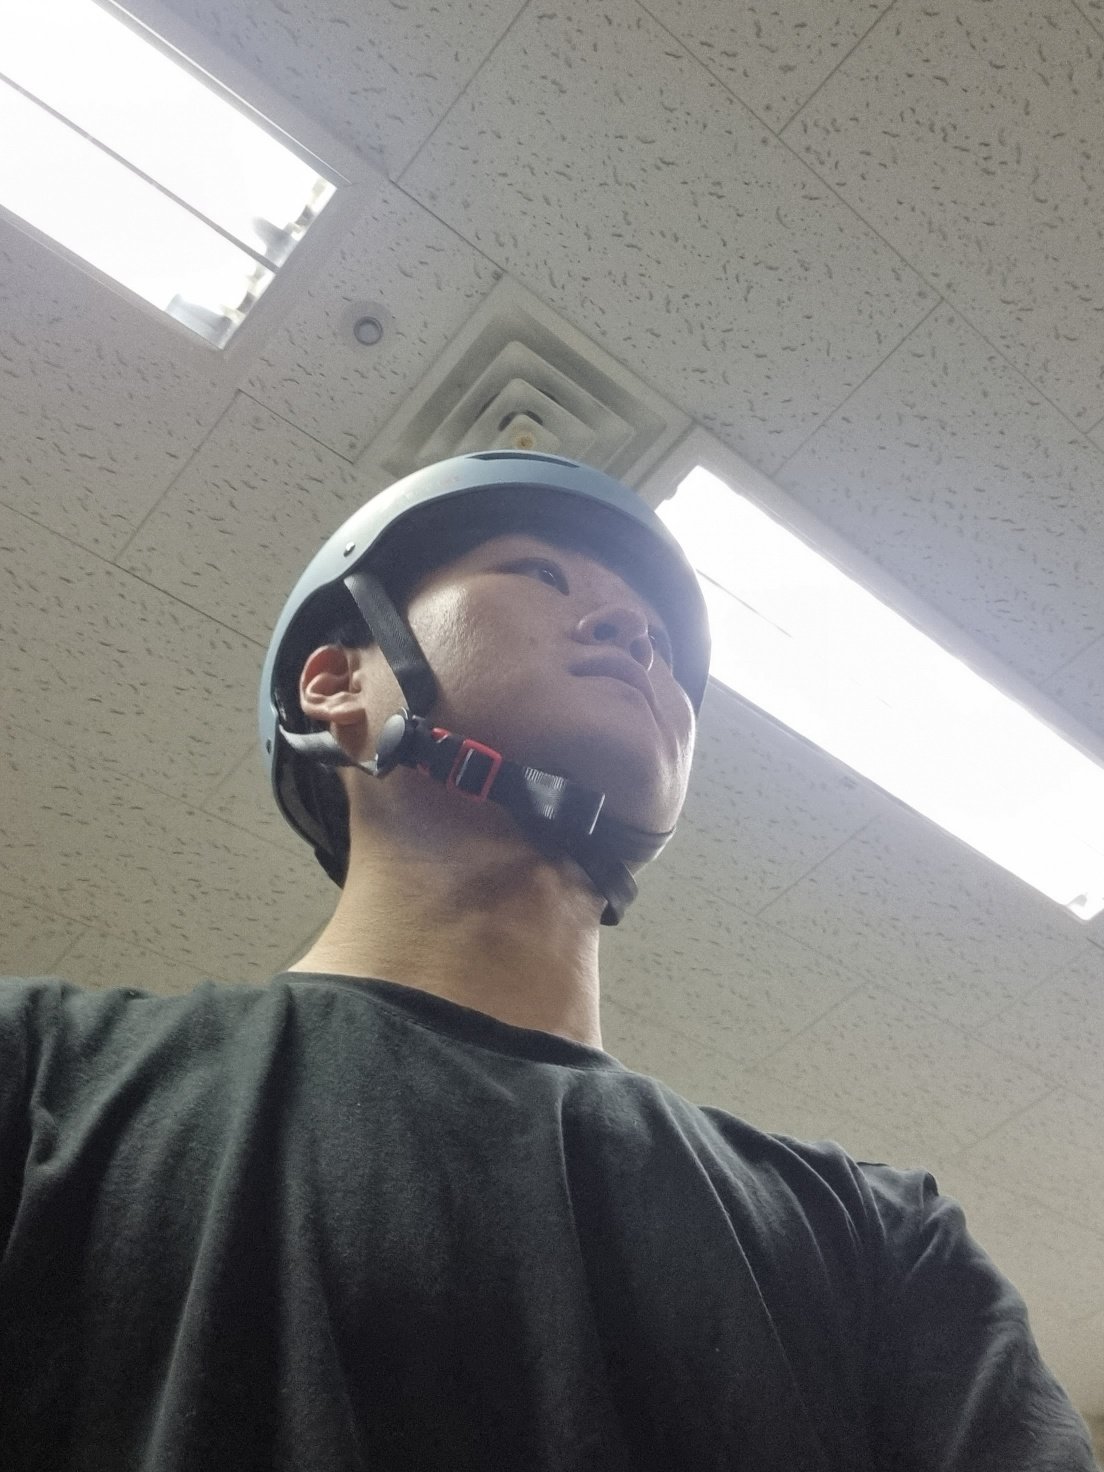Helmet: (199, 407, 777, 933)
